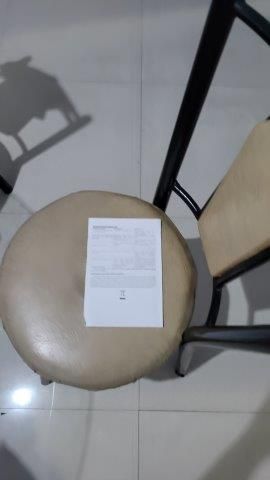kertas: (86, 217, 164, 328)
